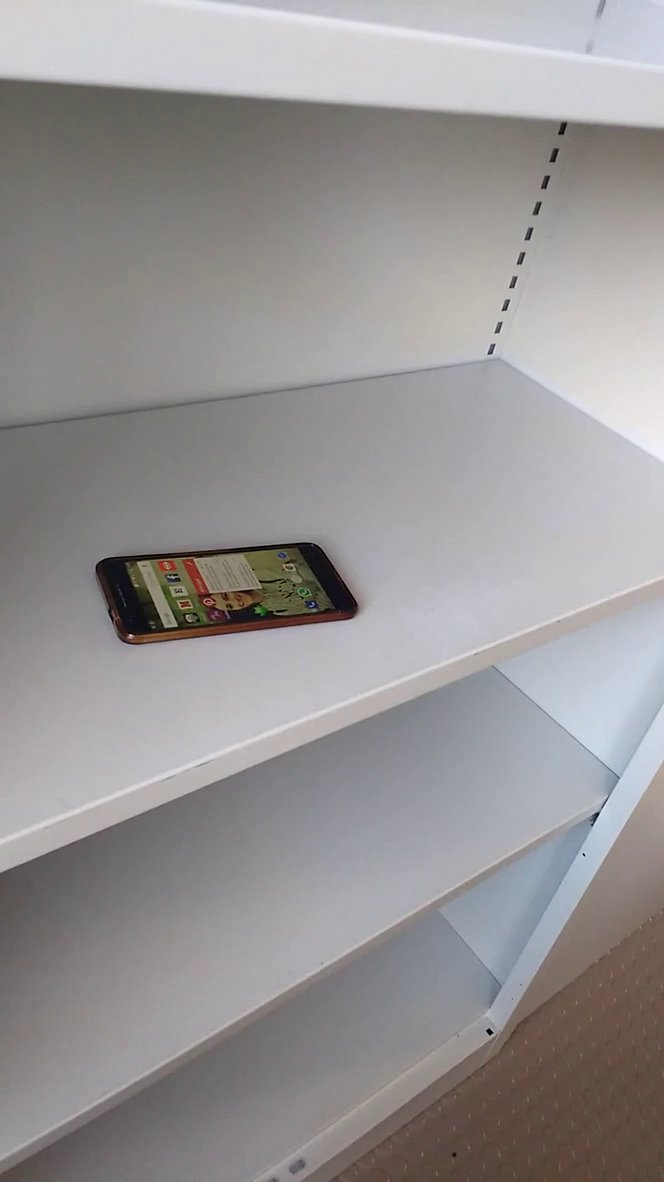phone: (86, 533, 377, 661)
